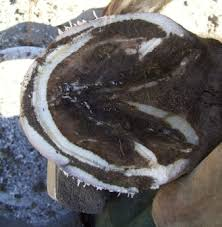horsesole: (20, 11, 205, 194)
